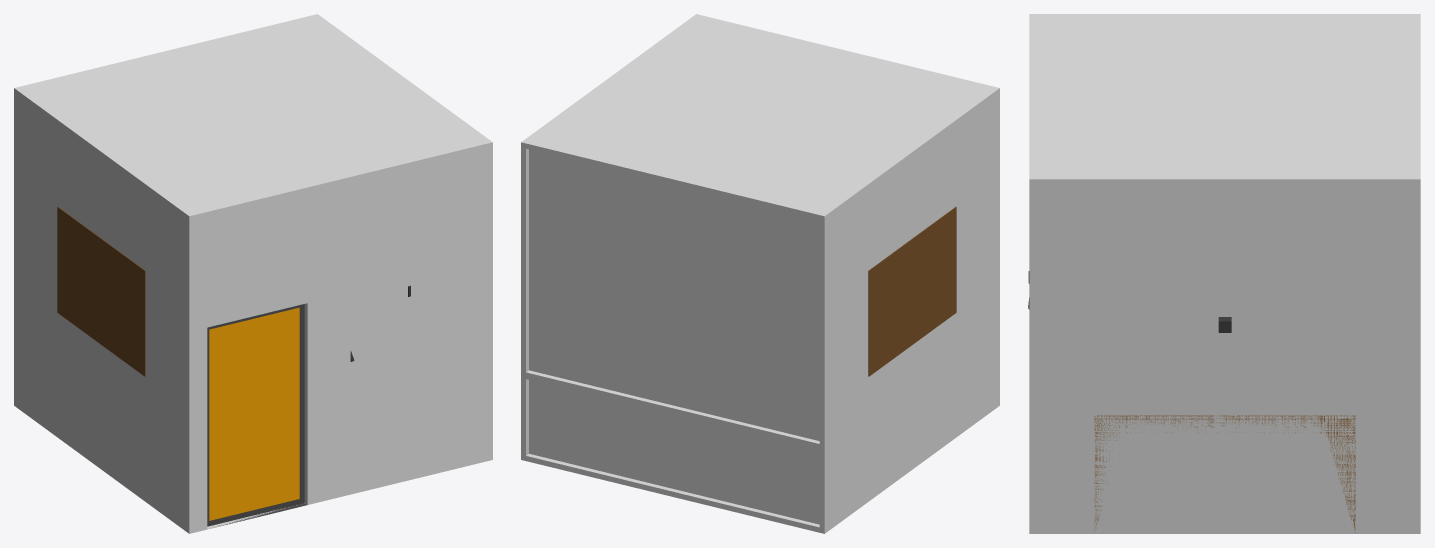
The model's file is ObservationRoom.fbx.
The picture shows the model from 3 angles, left to right: view 1: azimuth 30°, elevation 25°; view 2: azimuth 150°, elevation 25°; view 3: azimuth 270°, elevation 25°; orthographic projection. The views are drawn at different scales.
Parts seen in each view (by area): view 1: Room, Board; view 2: Room, Window, Board; view 3: Room, Desk.
Boxes of the visible parts, x1,y1,x2,y2 form: Room: (14,14,492,533); Board: (57,206,145,376); Room: (521,14,999,533); Window: (529,149,819,524); Board: (868,206,956,376); Room: (1029,14,1420,533); Desk: (1094,415,1355,532).
Size of the model in its own units: 616 by 600 by 602.
